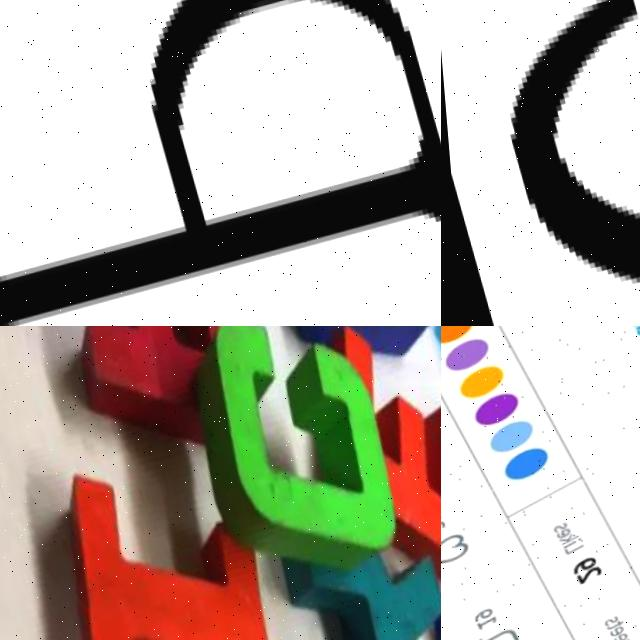1: (464, 616, 493, 635)
2: (563, 568, 598, 591)
9: (558, 559, 593, 582), (460, 608, 488, 628)
A: (28, 326, 275, 474)
B: (259, 326, 431, 375)
C: (167, 326, 404, 597), (503, 0, 640, 290)
E: (316, 326, 441, 626)
I: (17, 440, 304, 640)
K: (253, 519, 441, 640)
P: (0, 0, 441, 326)
